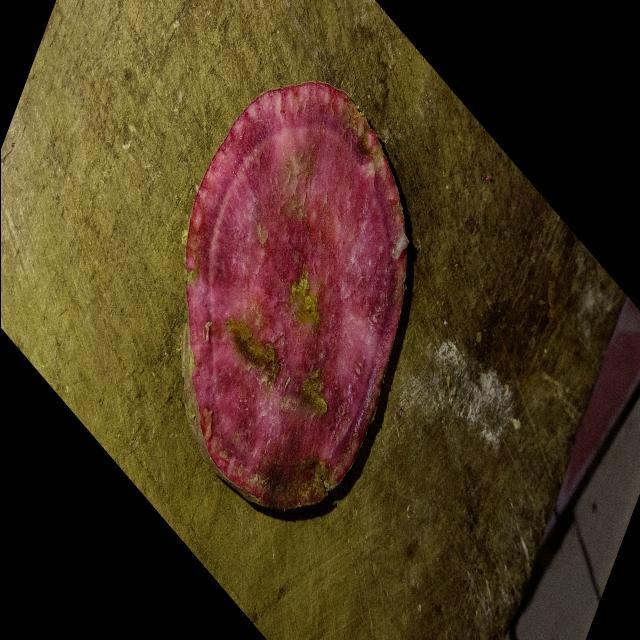Sick Sweet Potato_Tuber Rot: (181, 82, 408, 509)
